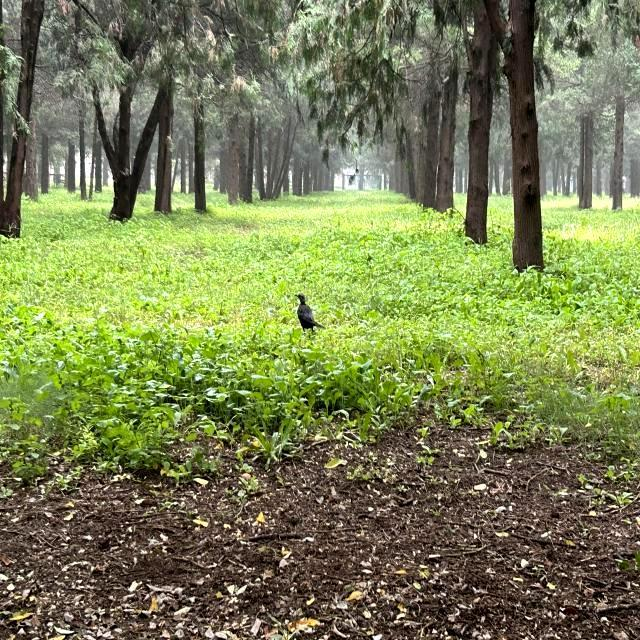bird: (292, 290, 324, 332)
